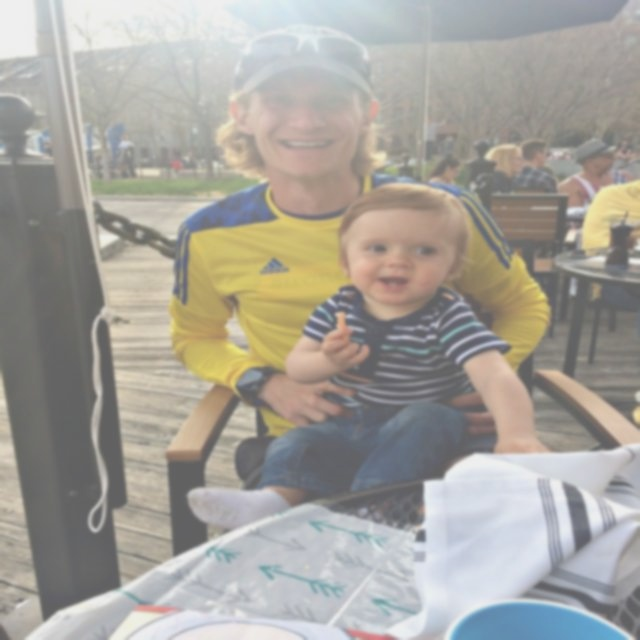pessoa: (166, 22, 554, 491), (178, 178, 562, 568), (36, 122, 242, 190), (558, 138, 636, 210), (367, 126, 417, 192), (514, 138, 560, 194), (482, 143, 526, 194), (544, 125, 592, 171), (420, 112, 462, 162), (424, 152, 462, 186), (612, 132, 636, 174)
